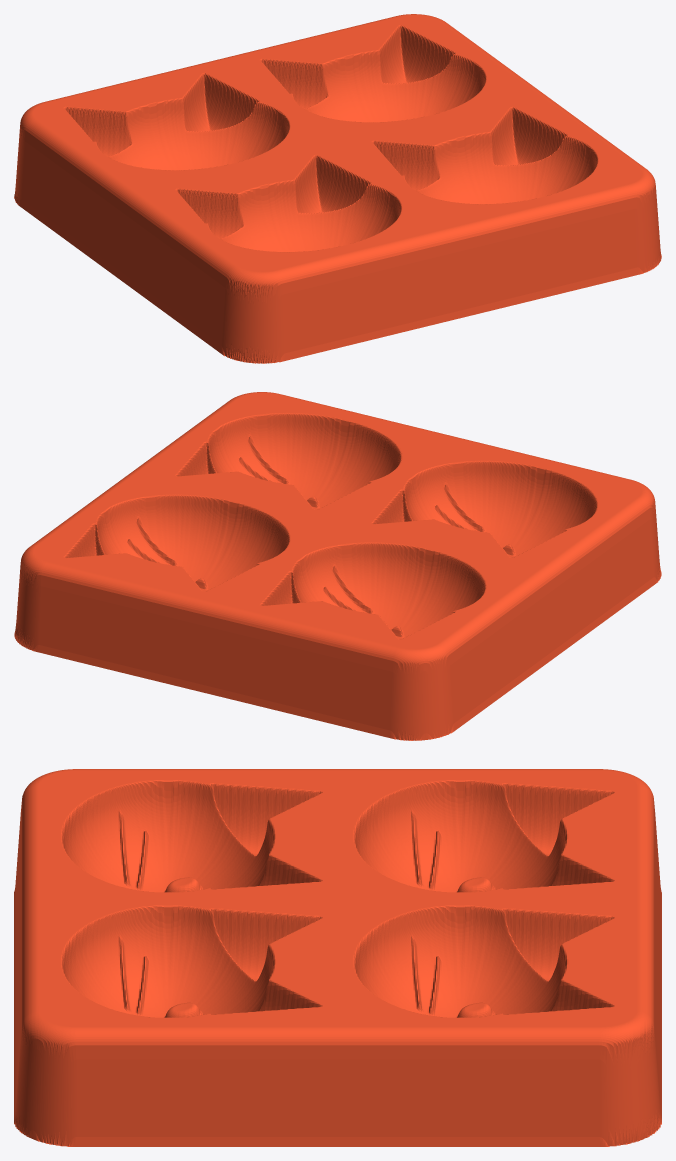
The model's file is mold.glb.
3 renders of one model, top to bottom at view 1: azimuth 30°, elevation 25°; view 2: azimuth 150°, elevation 25°; view 3: azimuth 270°, elevation 25°, orthographic. The views are drawn at different scales.
Parts seen in each view (by area): view 1: geometry_0; view 2: geometry_0; view 3: geometry_0.
Boxes of the visible parts, <box> form: geometry_0: <box>14,14,661,363</box>; geometry_0: <box>14,392,661,740</box>; geometry_0: <box>14,769,661,1146</box>.
Bounding box in the file's own units: 0.0952 × 0.0175 × 0.094.
